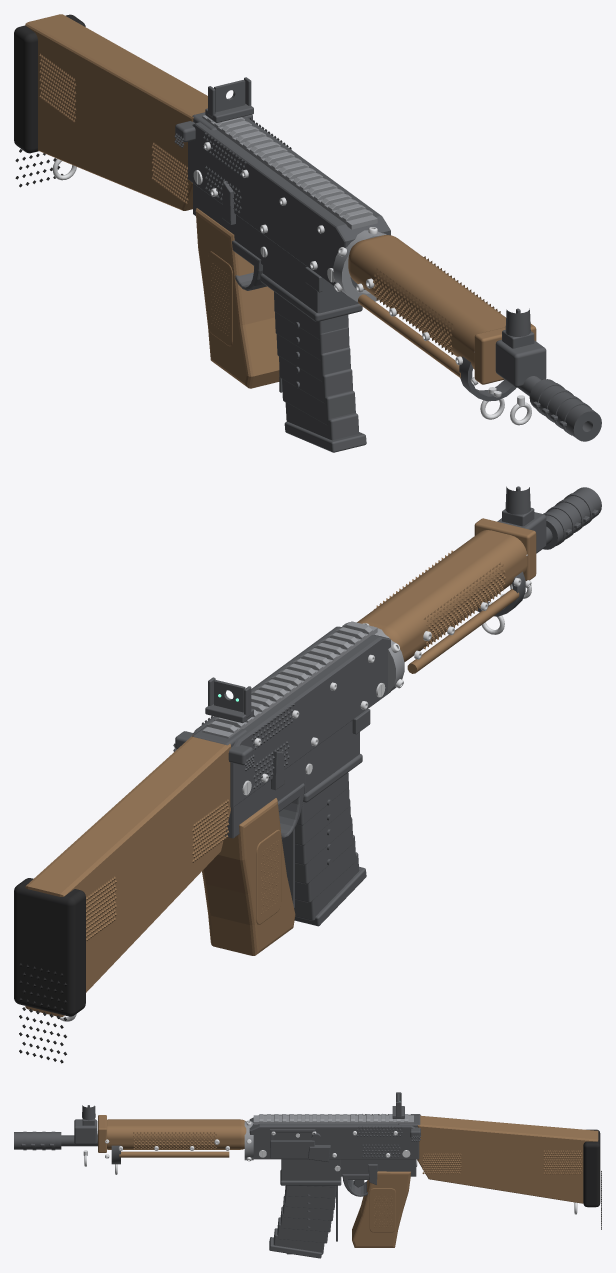
The model's file is wood-stock-rifle.glb.
3 renders of one model, top to bottom at view 1: azimuth 30°, elevation 25°; view 2: azimuth 150°, elevation 25°; view 3: azimuth 270°, elevation 25°, orthographic. The views are drawn at different scales.
Visible parts, largest first — view 1: wood-stock-rifle, magazine/gunmetal, charge; view 2: wood-stock-rifle, magazine/gunmetal, charge; view 3: wood-stock-rifle, magazine/gunmetal, charge.
Part boxes in pixels (left/top/right/bottom): wood-stock-rifle: left=14, top=14, right=601, bottom=441; magazine/gunmetal: left=274, top=291, right=366, bottom=452; charge: left=174, top=112, right=252, bottom=148; wood-stock-rifle: left=14, top=486, right=601, bottom=1063; magazine/gunmetal: left=282, top=772, right=366, bottom=926; charge: left=173, top=725, right=254, bottom=770; wood-stock-rifle: left=14, top=1092, right=601, bottom=1247; magazine/gunmetal: left=269, top=1185, right=337, bottom=1258; charge: left=398, top=1114, right=420, bottom=1141.
Size of the model in its own units: 0.0592 by 0.2269 by 0.7703.
